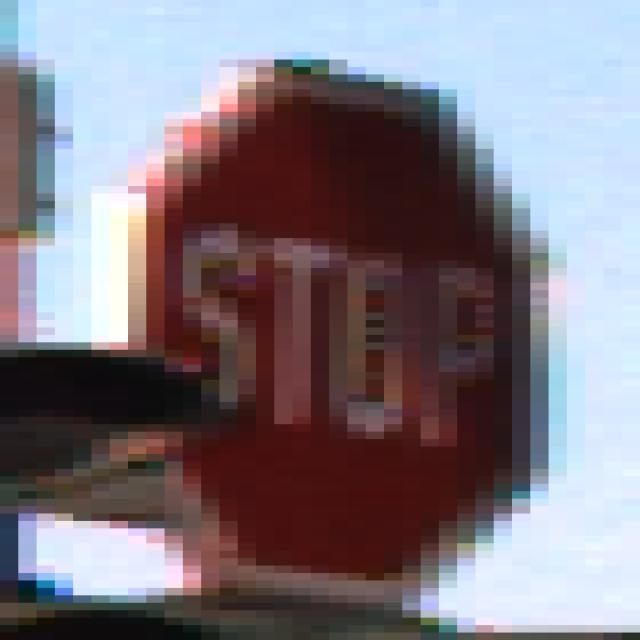STOP: (111, 53, 531, 582)
